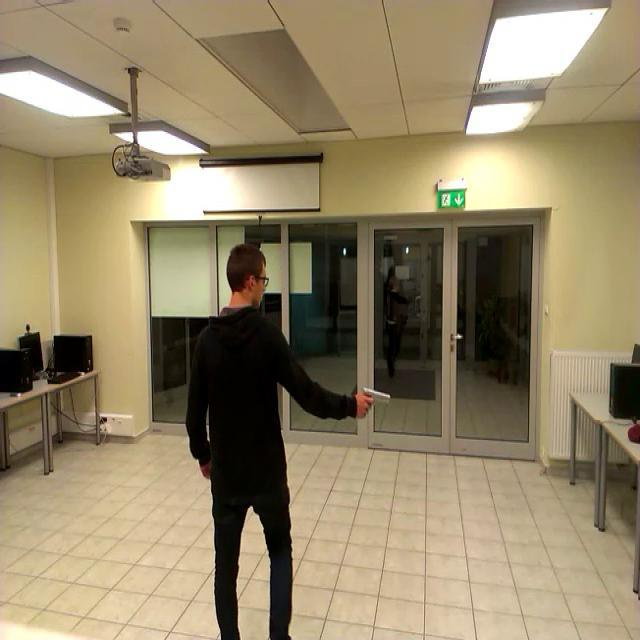Gun: (362, 386, 389, 414)
